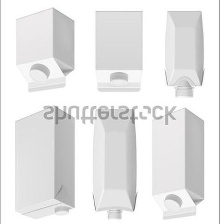carton: (8, 103, 78, 220), (149, 107, 215, 220), (12, 5, 80, 93), (88, 104, 140, 219), (88, 9, 147, 95), (162, 9, 209, 102)
